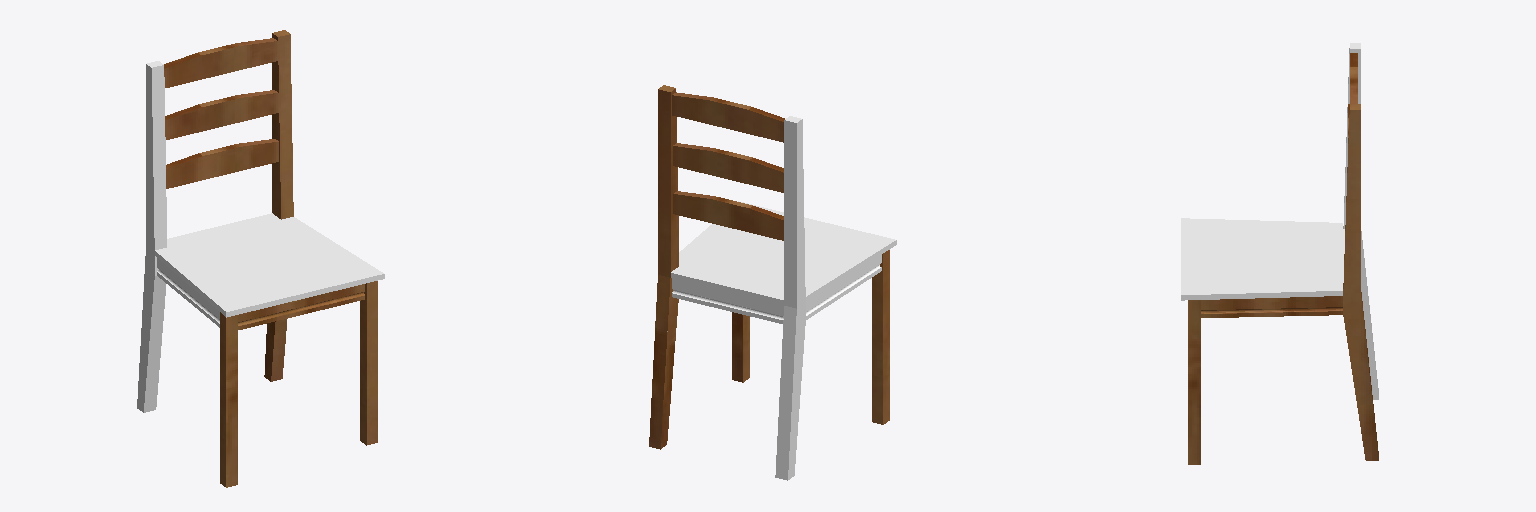
3 renders of one model, left to right at view 1: azimuth 30°, elevation 25°; view 2: azimuth 150°, elevation 25°; view 3: azimuth 270°, elevation 25°, orthographic.
Visible parts, largest first — view 1: Mesh1 stoel1 Model, Mesh2 stoel1 Model; view 2: Mesh1 stoel1 Model, Mesh2 stoel1 Model; view 3: Mesh1 stoel1 Model.
Part boxes in pixels (left/top/right/bottom): Mesh1 stoel1 Model: left=137, top=30, right=384, bottom=487; Mesh2 stoel1 Model: left=164, top=38, right=277, bottom=87; Mesh1 stoel1 Model: left=649, top=85, right=896, bottom=480; Mesh2 stoel1 Model: left=672, top=92, right=784, bottom=142; Mesh1 stoel1 Model: left=1181, top=43, right=1378, bottom=464.
Size of the model in its own units: 41 by 89 by 44.5.
2 materials, 1 textured.